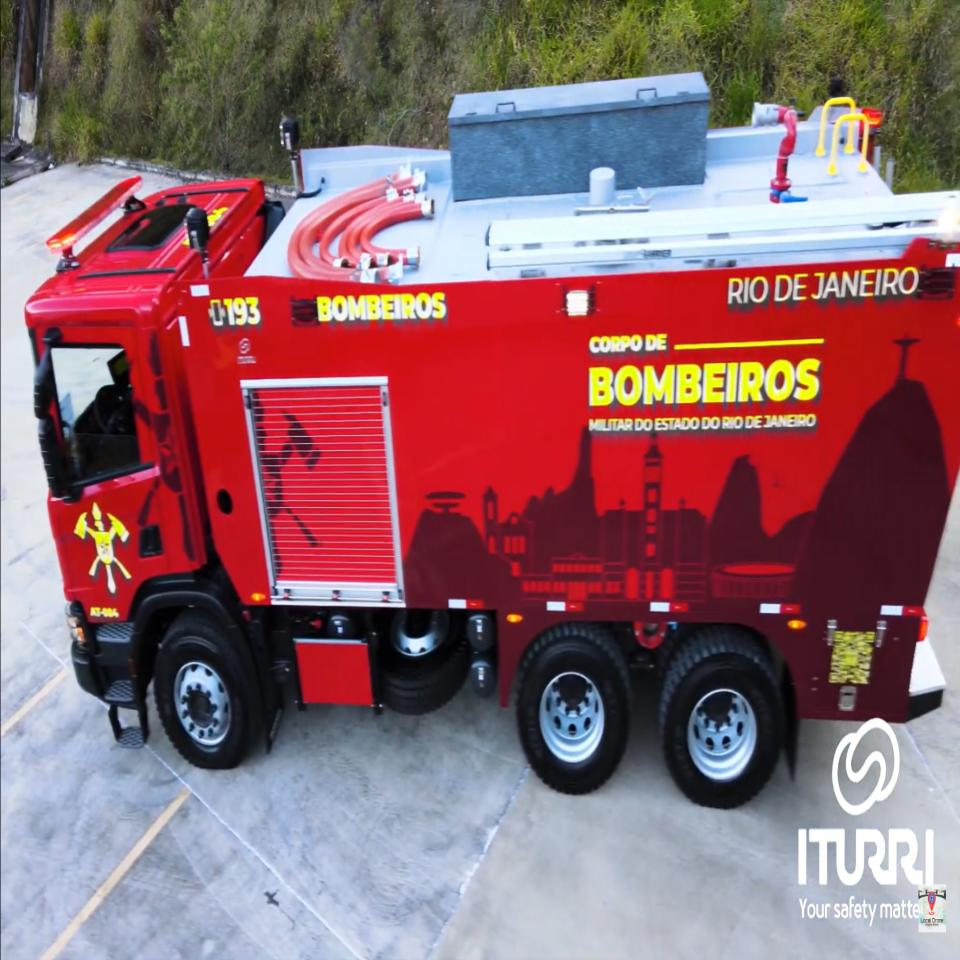viatura: (45, 64, 960, 809)
